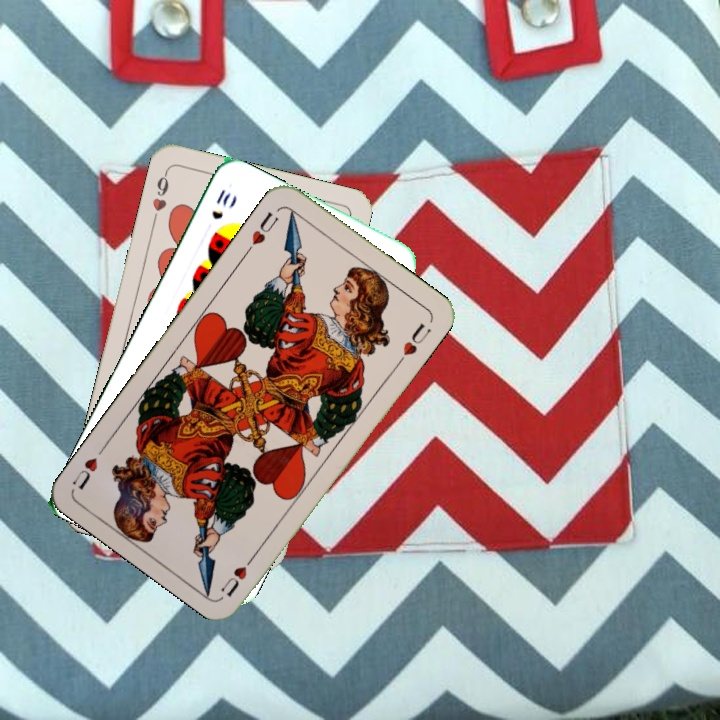H9: (148, 167, 172, 225)
HU: (216, 548, 260, 600), (242, 207, 282, 256)
S10: (207, 185, 234, 222)
